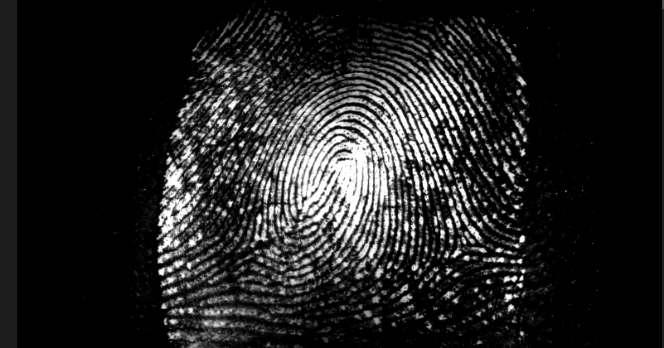nucelo: (323, 150, 360, 193)
verticilo: (443, 228, 484, 262), (262, 203, 305, 234)
